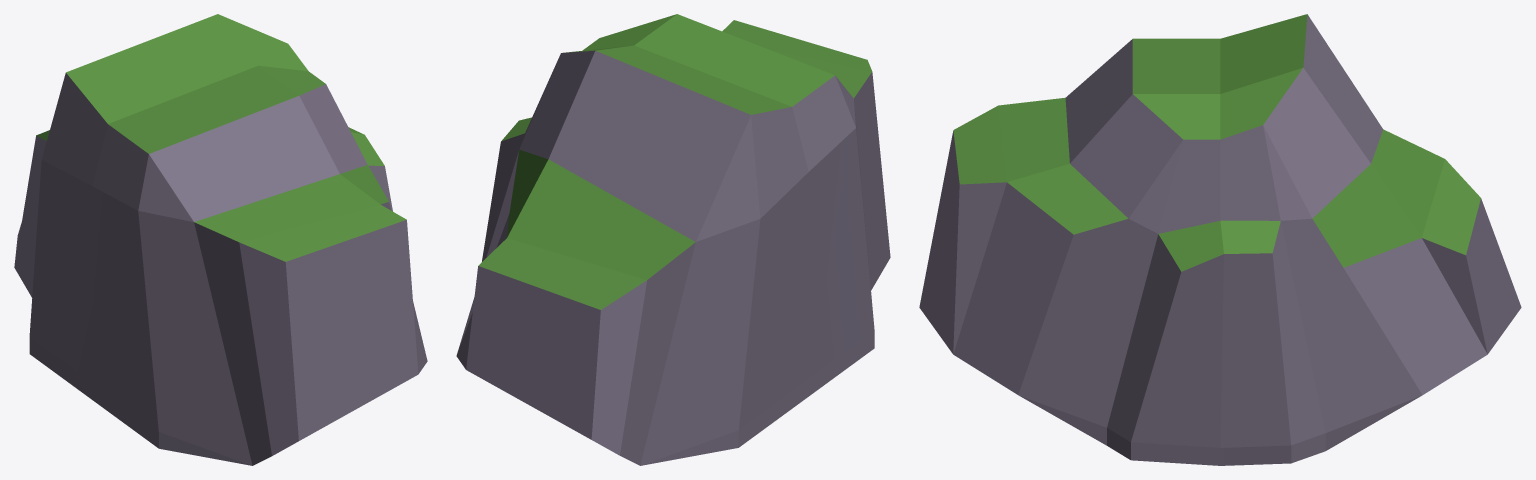
Rendered from Rock_Moss_4.glb.
3 renders of one model, left to right at view 1: azimuth 30°, elevation 25°; view 2: azimuth 150°, elevation 25°; view 3: azimuth 270°, elevation 25°, orthographic. The views are drawn at different scales.
Visible parts, largest first — view 1: Rock_Moss_4_Cube.023; view 2: Rock_Moss_4_Cube.023; view 3: Rock_Moss_4_Cube.023.
Part boxes in pixels (<box>): Rock_Moss_4_Cube.023: <box>14,14,427,465</box>; Rock_Moss_4_Cube.023: <box>456,14,890,465</box>; Rock_Moss_4_Cube.023: <box>919,14,1521,465</box>.
Size of the model in its own units: 0.7436 by 0.7836 by 1.25.
